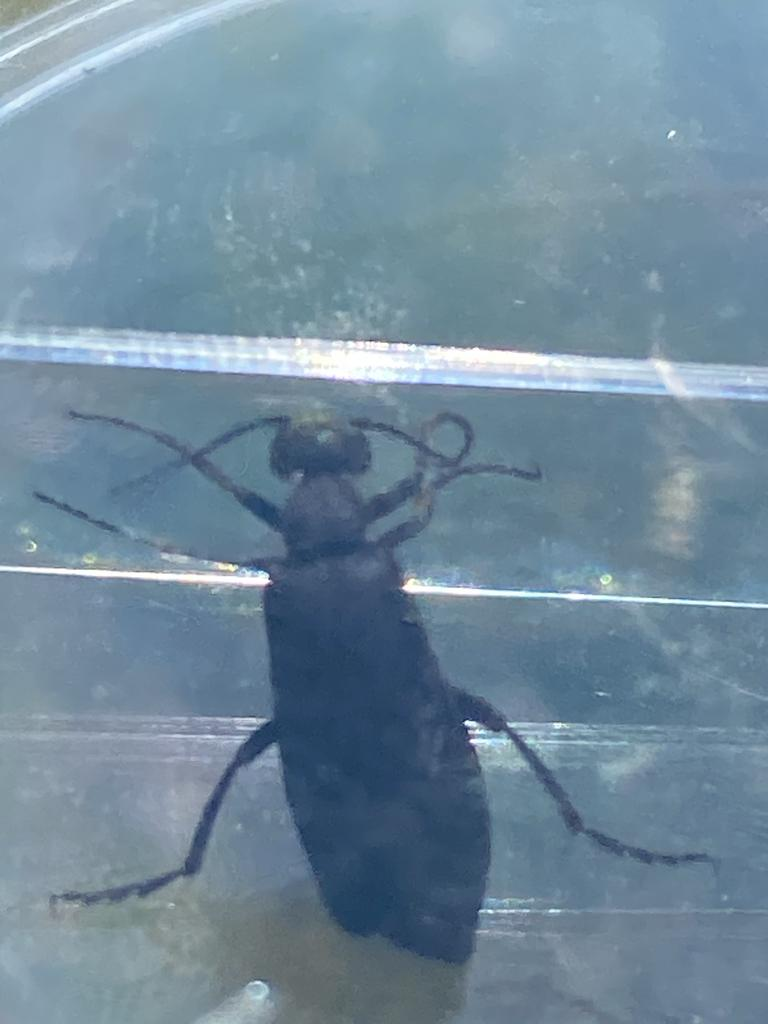blister_beetle: (12, 324, 768, 1024)
